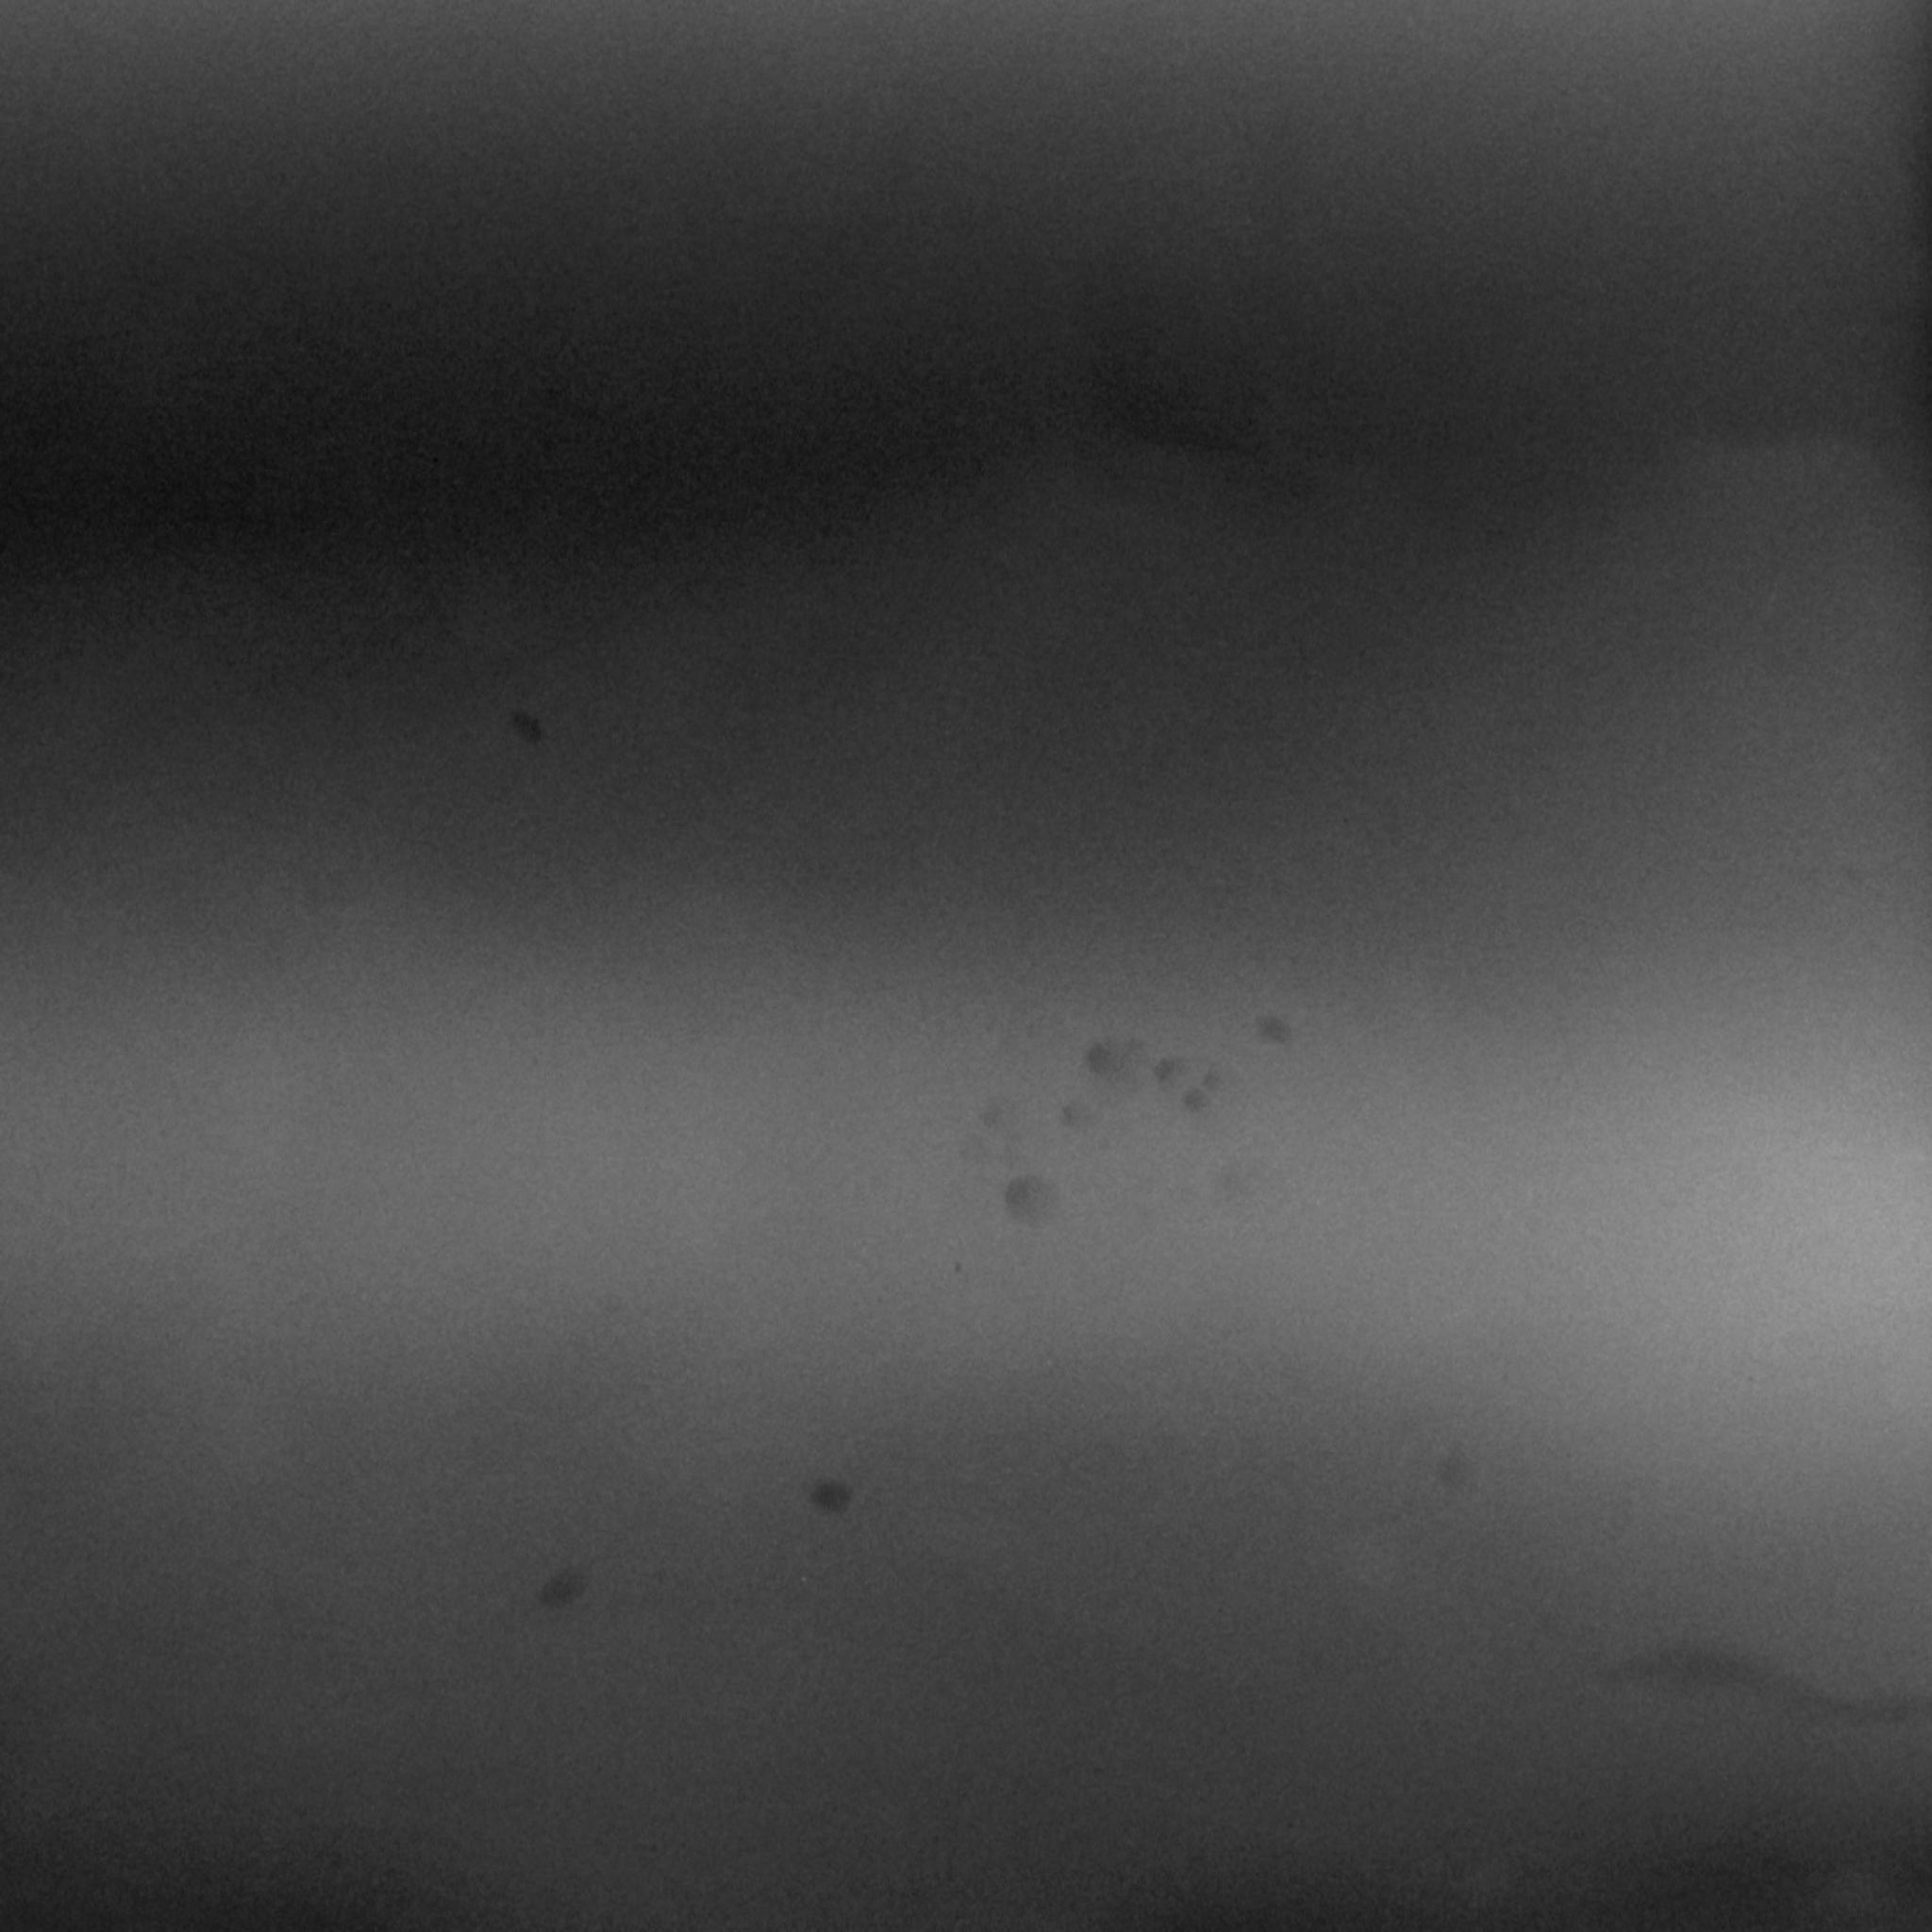FF: (1572, 1609, 1932, 1783)
IE: (877, 939, 1391, 1291)
PO: (768, 1438, 896, 1553), (506, 1529, 628, 1641), (1401, 1407, 1508, 1519)
